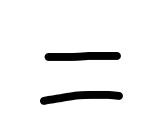eqv: (33, 49, 131, 104)
